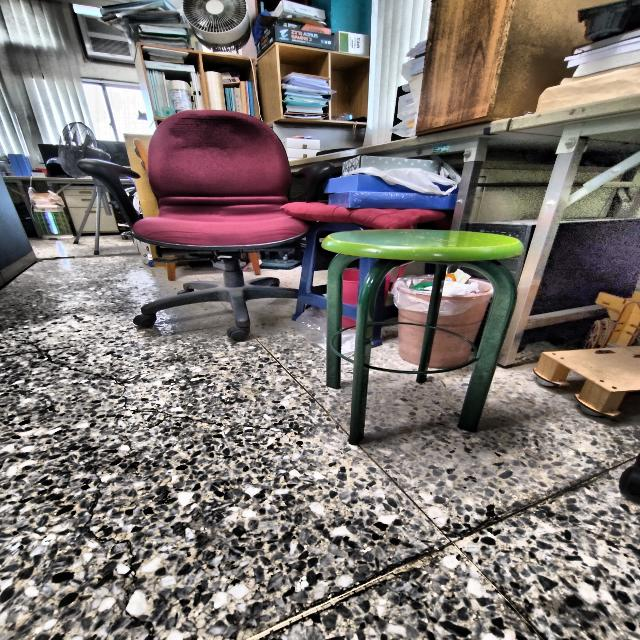cadeira: (309, 218, 532, 446), (134, 102, 314, 342)
